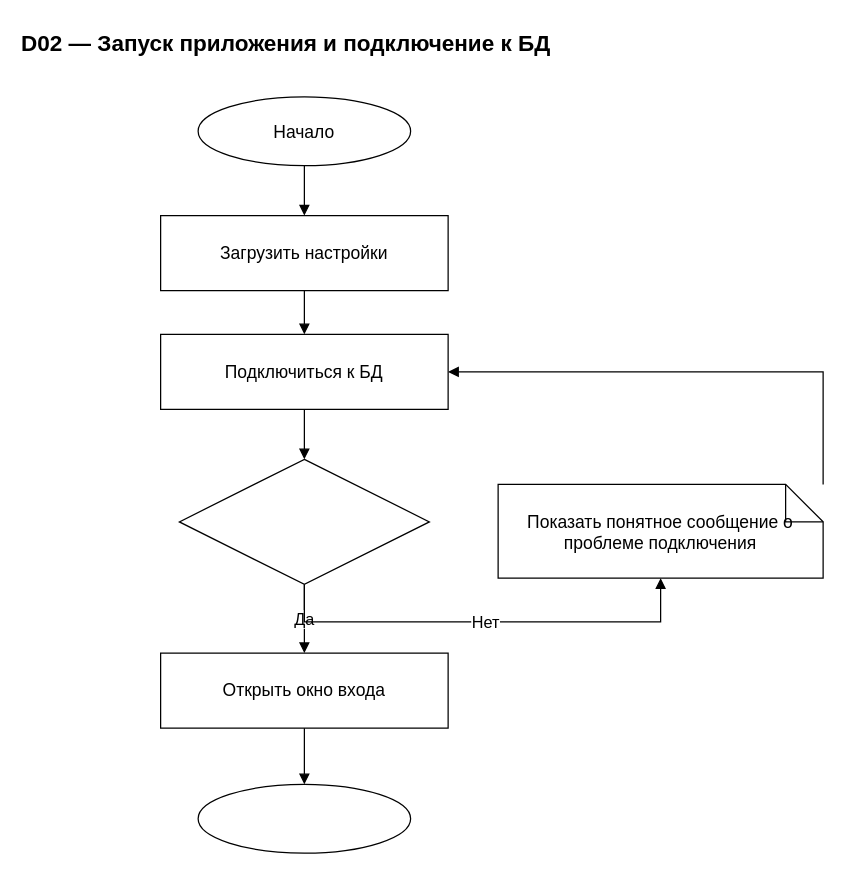
Image size: 855x875. Some labels were removed from this diagram. The centre of each missing label's shape, as x and y in pixels:
"Конец" goes at (304,818).
"Подключение успешно?" goes at (303,521).
